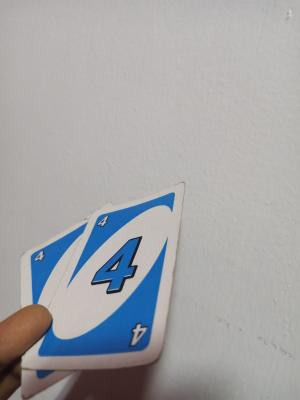num_4: (77, 218, 155, 357), (23, 254, 58, 295), (129, 323, 148, 350), (29, 248, 49, 263), (97, 215, 110, 230)
